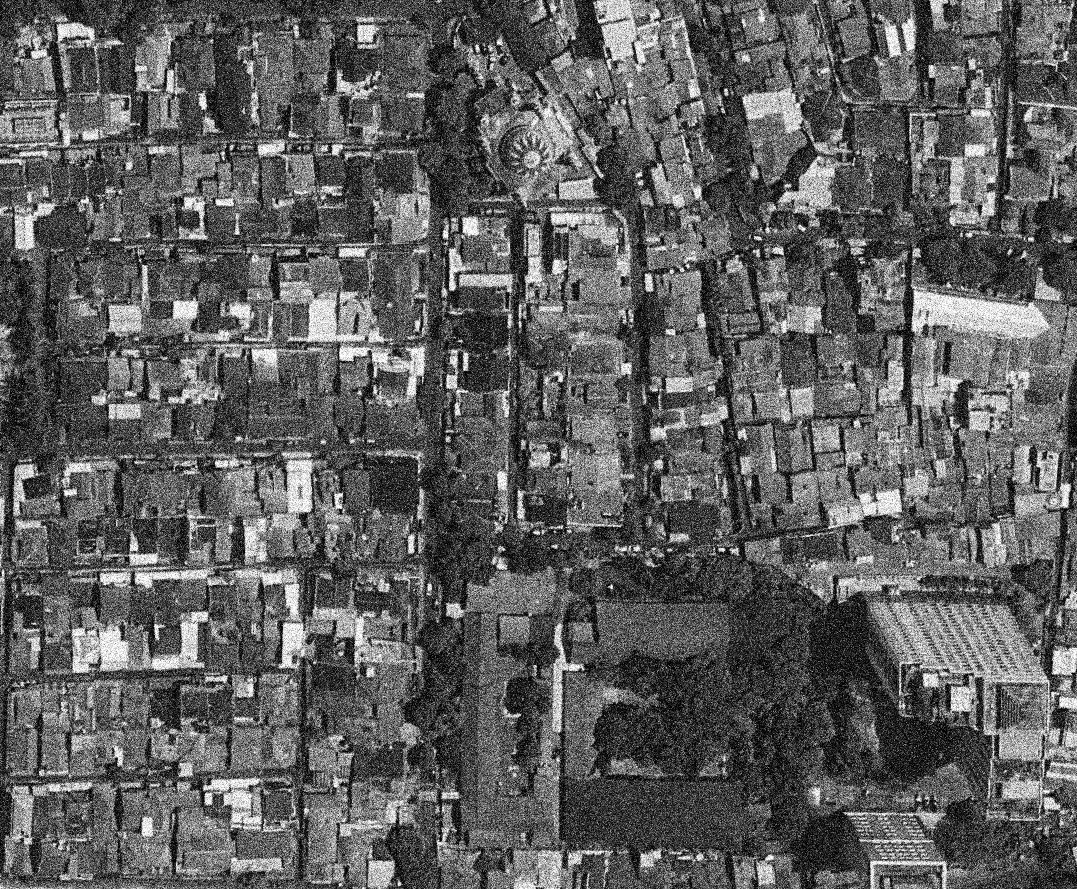building: (843, 540, 1077, 862), (462, 612, 557, 848), (563, 589, 803, 677), (454, 63, 594, 212), (574, 0, 697, 110), (565, 779, 745, 847), (907, 289, 1053, 349), (844, 811, 948, 888), (773, 154, 874, 231), (300, 684, 408, 749), (721, 1, 793, 98), (897, 447, 975, 525), (549, 38, 621, 116), (489, 113, 563, 187), (926, 324, 1011, 388), (1009, 298, 1077, 377), (482, 154, 601, 199), (644, 327, 719, 395), (1013, 35, 1077, 110), (949, 152, 1000, 240), (721, 329, 787, 394), (562, 671, 602, 778), (466, 566, 559, 612), (641, 265, 704, 331), (904, 150, 958, 226), (740, 82, 806, 143), (750, 129, 815, 187), (452, 211, 512, 271), (748, 472, 804, 534), (1013, 0, 1069, 62), (496, 12, 550, 76), (651, 501, 730, 544), (754, 251, 793, 337), (568, 214, 628, 269), (121, 172, 170, 239), (850, 464, 909, 518), (377, 24, 432, 81), (354, 512, 416, 562), (592, 0, 642, 62), (176, 825, 233, 879), (371, 193, 430, 245), (76, 256, 144, 301), (800, 85, 850, 146), (236, 831, 298, 880), (777, 9, 828, 68), (254, 55, 295, 128), (68, 458, 120, 515), (354, 574, 414, 623), (1017, 104, 1077, 153), (816, 463, 864, 524), (787, 260, 826, 334), (1013, 510, 1067, 563), (449, 308, 514, 352), (855, 258, 906, 314), (1005, 153, 1061, 204), (835, 52, 885, 108), (614, 118, 663, 175), (852, 105, 906, 156), (306, 805, 354, 862), (334, 34, 381, 92), (642, 228, 705, 271), (372, 347, 423, 400), (11, 460, 60, 515), (216, 62, 253, 133), (875, 49, 921, 106), (303, 742, 354, 793), (963, 382, 1015, 432), (372, 460, 419, 514), (244, 400, 307, 440), (455, 390, 512, 433), (661, 146, 700, 208), (293, 36, 335, 93), (364, 398, 422, 439), (58, 36, 99, 94), (872, 153, 911, 213), (57, 357, 110, 401), (657, 467, 723, 502), (737, 421, 779, 476), (375, 89, 425, 135), (781, 528, 841, 566), (447, 353, 508, 390), (568, 488, 627, 526), (137, 30, 173, 92), (566, 410, 619, 452), (122, 838, 176, 879), (570, 448, 621, 491), (454, 432, 507, 473), (453, 273, 515, 308), (360, 661, 410, 704), (789, 467, 824, 528), (53, 302, 105, 343), (567, 266, 623, 304), (987, 416, 1060, 445), (823, 271, 856, 335), (516, 490, 569, 529), (642, 159, 680, 213), (780, 332, 817, 387), (375, 148, 420, 193), (176, 36, 214, 89), (167, 778, 207, 828), (265, 618, 304, 669), (379, 299, 426, 341), (927, 60, 968, 108), (54, 402, 108, 438), (568, 305, 622, 341), (909, 330, 943, 387), (60, 95, 103, 140), (693, 215, 736, 260), (816, 335, 859, 380), (36, 206, 88, 243), (834, 13, 874, 61), (262, 721, 301, 770), (97, 42, 133, 94), (715, 266, 754, 314), (306, 658, 359, 693), (570, 342, 623, 377), (335, 296, 377, 340), (313, 572, 355, 616), (181, 144, 223, 188), (258, 33, 294, 84), (64, 456, 96, 513), (265, 568, 300, 620), (676, 855, 731, 888), (568, 378, 621, 412), (492, 606, 532, 651), (530, 60, 570, 105), (810, 417, 846, 466), (855, 364, 890, 414), (177, 723, 210, 776), (777, 421, 811, 472), (6, 728, 42, 776), (148, 275, 187, 319), (291, 512, 330, 556), (201, 253, 247, 290), (746, 153, 799, 185), (230, 145, 261, 199), (117, 783, 152, 830), (98, 572, 130, 623), (41, 575, 71, 629), (45, 258, 81, 303), (262, 672, 298, 717), (8, 583, 41, 632), (260, 144, 291, 196), (12, 521, 46, 568), (19, 52, 57, 94), (910, 524, 953, 561), (377, 250, 410, 298), (757, 853, 801, 889), (562, 852, 607, 887), (229, 726, 263, 772), (229, 780, 263, 826), (344, 148, 374, 200), (878, 424, 917, 464), (963, 33, 1004, 71), (439, 851, 481, 888), (961, 0, 1003, 37), (846, 419, 879, 466), (90, 191, 121, 241), (526, 332, 569, 368), (120, 457, 149, 510), (47, 517, 79, 565), (186, 513, 218, 561), (35, 839, 74, 878), (150, 152, 183, 198), (72, 574, 99, 630), (175, 460, 205, 510), (228, 465, 259, 513), (145, 91, 178, 136), (285, 457, 313, 510), (959, 424, 987, 477), (130, 514, 160, 563), (176, 682, 210, 725), (317, 151, 348, 198), (277, 260, 310, 304), (150, 782, 180, 830), (203, 202, 238, 243), (246, 251, 275, 300), (248, 350, 278, 397), (1013, 489, 1060, 519), (456, 501, 496, 536), (280, 349, 309, 397), (340, 346, 369, 394), (151, 456, 176, 511), (119, 680, 150, 724), (92, 727, 123, 771), (721, 307, 765, 338), (212, 571, 241, 618), (122, 727, 151, 774), (148, 257, 182, 297), (183, 570, 211, 618), (66, 786, 94, 834), (819, 383, 861, 415), (998, 519, 1026, 567), (153, 623, 182, 669), (211, 619, 240, 665), (268, 512, 297, 558), (147, 360, 186, 394), (240, 568, 266, 619), (263, 782, 296, 822), (202, 466, 230, 513), (648, 428, 705, 451), (35, 784, 61, 834), (604, 851, 640, 887), (78, 516, 105, 564), (241, 514, 268, 562), (926, 30, 964, 64), (203, 781, 233, 824), (10, 689, 43, 728), (70, 682, 96, 731), (216, 400, 247, 441), (102, 92, 133, 133), (154, 573, 181, 620), (150, 679, 178, 724), (307, 395, 337, 437), (257, 466, 285, 511), (235, 197, 265, 239), (339, 256, 373, 293), (317, 202, 349, 241), (262, 196, 291, 239), (182, 622, 209, 668), (177, 89, 204, 135), (220, 355, 251, 395), (744, 535, 784, 566), (179, 191, 207, 235), (660, 448, 716, 470), (8, 789, 33, 838), (309, 255, 342, 292), (641, 849, 673, 887), (99, 626, 126, 671), (141, 402, 172, 441), (39, 730, 67, 773), (44, 632, 72, 675), (937, 115, 965, 158), (130, 573, 154, 623), (94, 784, 119, 832), (288, 101, 322, 136), (9, 637, 42, 673), (290, 148, 317, 192), (483, 850, 514, 888), (72, 631, 100, 673), (216, 514, 241, 561), (652, 402, 699, 427), (241, 621, 267, 666), (965, 109, 995, 148), (347, 193, 374, 236), (343, 468, 372, 508), (873, 405, 910, 436), (659, 385, 711, 407), (206, 686, 236, 724), (522, 468, 569, 492), (523, 309, 568, 334), (674, 95, 709, 127), (928, 0, 963, 32), (291, 194, 317, 237), (370, 747, 406, 778), (852, 334, 888, 365), (463, 14, 499, 45), (151, 728, 178, 769), (965, 481, 992, 522), (787, 383, 816, 421), (105, 516, 130, 560), (145, 316, 195, 338), (108, 304, 143, 335), (126, 625, 150, 670), (204, 727, 229, 770), (317, 92, 342, 135), (874, 22, 903, 59), (345, 91, 374, 128), (68, 734, 95, 773), (337, 395, 364, 434), (729, 852, 758, 888), (235, 679, 261, 719), (3, 839, 31, 876), (997, 199, 1025, 236), (204, 161, 234, 195), (512, 849, 538, 888), (159, 514, 182, 558), (105, 353, 133, 389), (1037, 449, 1061, 491), (312, 297, 337, 337), (1008, 444, 1033, 484), (949, 524, 974, 563), (177, 401, 200, 443), (983, 524, 1006, 566), (869, 0, 911, 23), (643, 204, 669, 241), (195, 301, 223, 335), (269, 299, 291, 342), (536, 851, 562, 887), (650, 114, 682, 143), (604, 99, 633, 131), (668, 54, 697, 86), (754, 389, 782, 421), (72, 839, 95, 877), (872, 302, 902, 331), (657, 134, 687, 163), (692, 148, 718, 181), (627, 95, 652, 129), (871, 540, 913, 560), (307, 351, 326, 395), (103, 148, 125, 186), (95, 684, 120, 717), (731, 391, 756, 424), (17, 208, 36, 251), (95, 835, 117, 872), (992, 475, 1014, 512), (847, 527, 872, 559), (990, 439, 1014, 472), (22, 155, 50, 183), (528, 613, 555, 642), (248, 301, 268, 340), (700, 424, 726, 454), (913, 384, 946, 407), (213, 32, 240, 60), (109, 421, 143, 443), (195, 279, 226, 302), (775, 0, 812, 19), (292, 299, 309, 340), (49, 164, 70, 197), (69, 164, 90, 196), (1, 43, 15, 89), (0, 157, 22, 186), (87, 163, 106, 195), (126, 144, 149, 170), (159, 209, 179, 238), (968, 84, 992, 108), (628, 153, 659, 171), (0, 186, 26, 207), (179, 256, 200, 282), (0, 209, 15, 244), (459, 393, 485, 413), (921, 116, 939, 144), (43, 714, 69, 731), (685, 77, 702, 99)
tree: (758, 680, 860, 787), (912, 228, 1000, 296), (592, 696, 669, 767), (760, 619, 813, 721), (661, 707, 736, 779), (943, 800, 1008, 876), (667, 549, 756, 602), (659, 652, 737, 712), (589, 143, 645, 217), (382, 821, 442, 889), (728, 732, 782, 806), (719, 653, 781, 717), (402, 670, 458, 730), (766, 778, 815, 844), (603, 502, 656, 558), (434, 539, 497, 586), (505, 680, 555, 739), (502, 519, 553, 576), (724, 161, 776, 213), (1027, 194, 1077, 245), (705, 111, 753, 164), (992, 813, 1045, 860), (616, 650, 664, 700), (0, 418, 52, 462), (0, 0, 55, 40), (418, 613, 464, 659), (440, 158, 475, 216), (835, 686, 882, 729), (431, 83, 473, 131), (615, 549, 660, 593), (743, 567, 780, 620), (784, 235, 833, 273), (578, 108, 621, 150), (1017, 558, 1062, 598), (430, 39, 471, 80), (994, 255, 1034, 295), (1010, 596, 1042, 645), (74, 0, 127, 29), (699, 176, 737, 215), (111, 11, 150, 49), (427, 464, 465, 502), (830, 720, 867, 758), (413, 138, 450, 176), (1037, 835, 1076, 870), (509, 641, 559, 668), (435, 693, 464, 738), (701, 276, 724, 332), (814, 670, 850, 705), (15, 368, 51, 403), (419, 380, 453, 417), (282, 0, 348, 19), (653, 567, 689, 601), (822, 211, 865, 239), (792, 589, 828, 621), (428, 493, 462, 526), (1044, 255, 1077, 289), (15, 315, 48, 349), (769, 572, 806, 602), (438, 643, 465, 683), (479, 0, 518, 27), (124, 0, 162, 27), (438, 733, 464, 772), (588, 659, 621, 689), (691, 22, 719, 57), (1049, 781, 1077, 815), (1018, 198, 1042, 237), (568, 572, 605, 597), (548, 546, 588, 569), (13, 396, 47, 423), (869, 236, 903, 261), (913, 211, 949, 234), (516, 735, 540, 769), (473, 173, 504, 199), (865, 211, 902, 232), (990, 574, 1019, 600), (0, 289, 22, 323), (1033, 872, 1076, 888), (320, 449, 346, 475), (433, 314, 458, 341), (567, 597, 594, 620), (775, 759, 799, 784), (458, 136, 482, 160), (637, 310, 660, 335), (707, 54, 730, 79), (13, 344, 36, 369), (864, 748, 887, 772), (921, 572, 945, 595), (296, 17, 321, 39), (335, 526, 352, 558), (1, 262, 20, 290), (615, 374, 638, 397), (440, 130, 463, 153), (833, 761, 855, 784), (618, 447, 641, 469), (415, 744, 434, 770), (38, 451, 60, 472), (747, 838, 771, 857), (773, 212, 798, 230), (106, 764, 127, 785), (972, 572, 993, 592), (616, 328, 637, 348), (20, 263, 40, 284), (638, 445, 660, 464), (110, 334, 133, 352), (640, 497, 660, 517), (706, 10, 727, 29), (164, 339, 182, 359), (21, 286, 40, 304), (331, 557, 349, 575), (413, 673, 429, 693), (941, 574, 961, 590), (21, 302, 38, 320), (746, 251, 763, 268), (408, 13, 427, 28), (746, 216, 763, 232), (469, 156, 486, 172), (958, 575, 976, 590), (248, 875, 267, 889), (220, 13, 236, 27), (398, 348, 413, 362), (648, 523, 661, 536), (0, 245, 13, 258), (192, 20, 205, 32), (29, 281, 41, 294), (739, 444, 750, 457)
